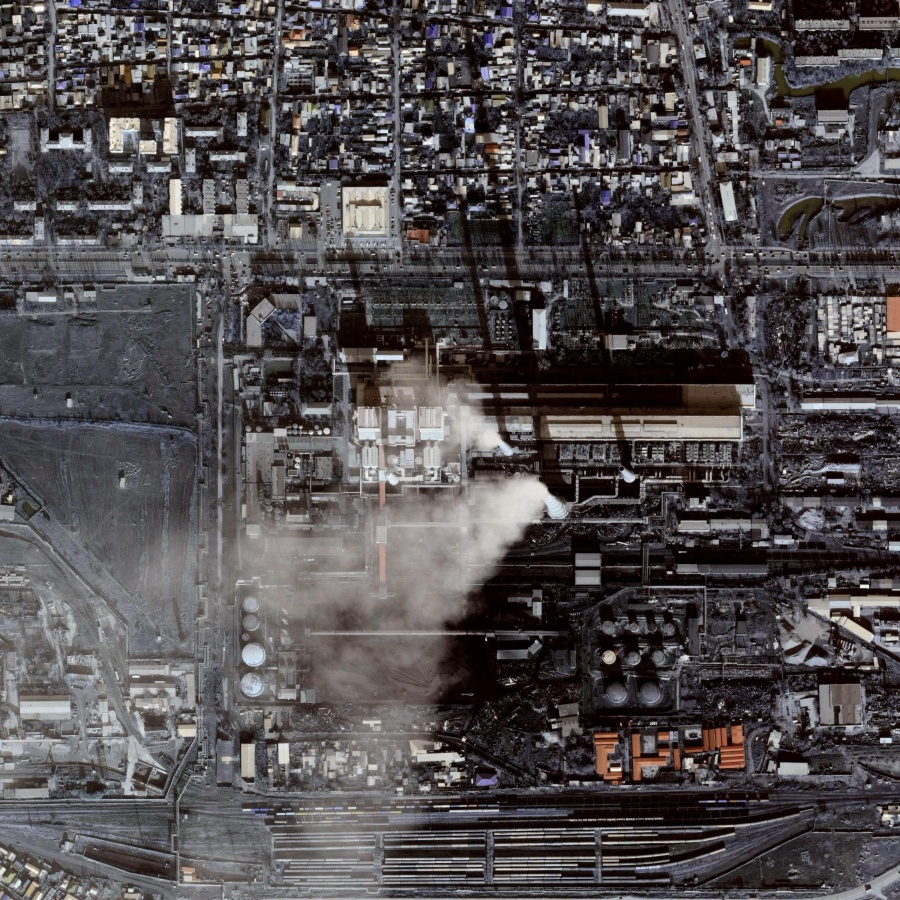PowerPlant: (245, 405, 749, 719)
